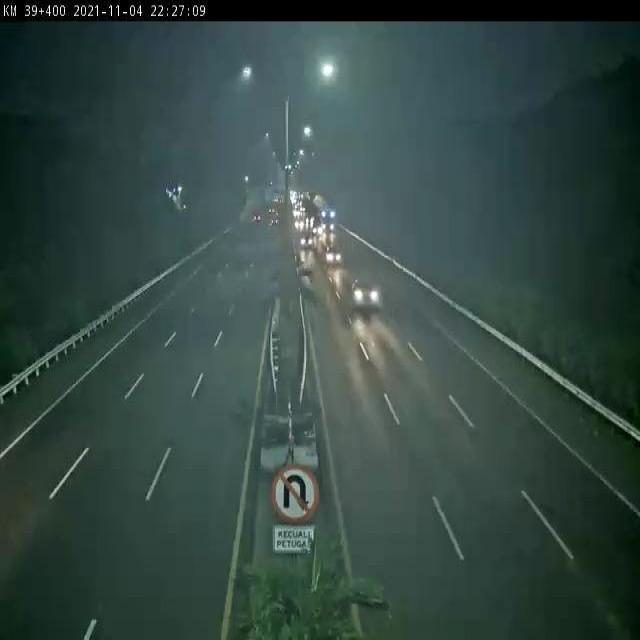car: (352, 276, 380, 311), (326, 246, 343, 266)
